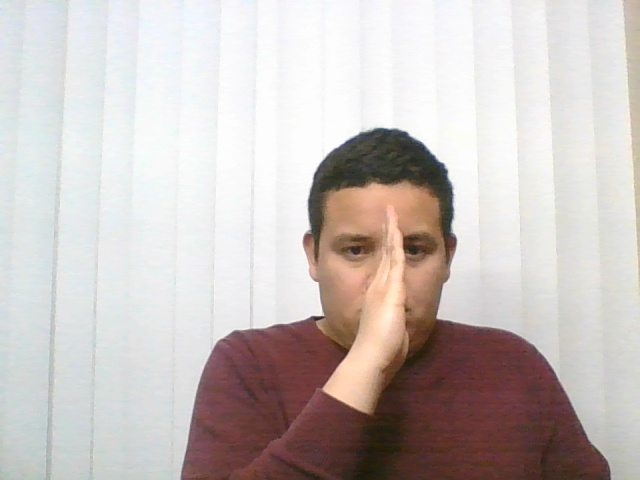God: (279, 182, 492, 422)
